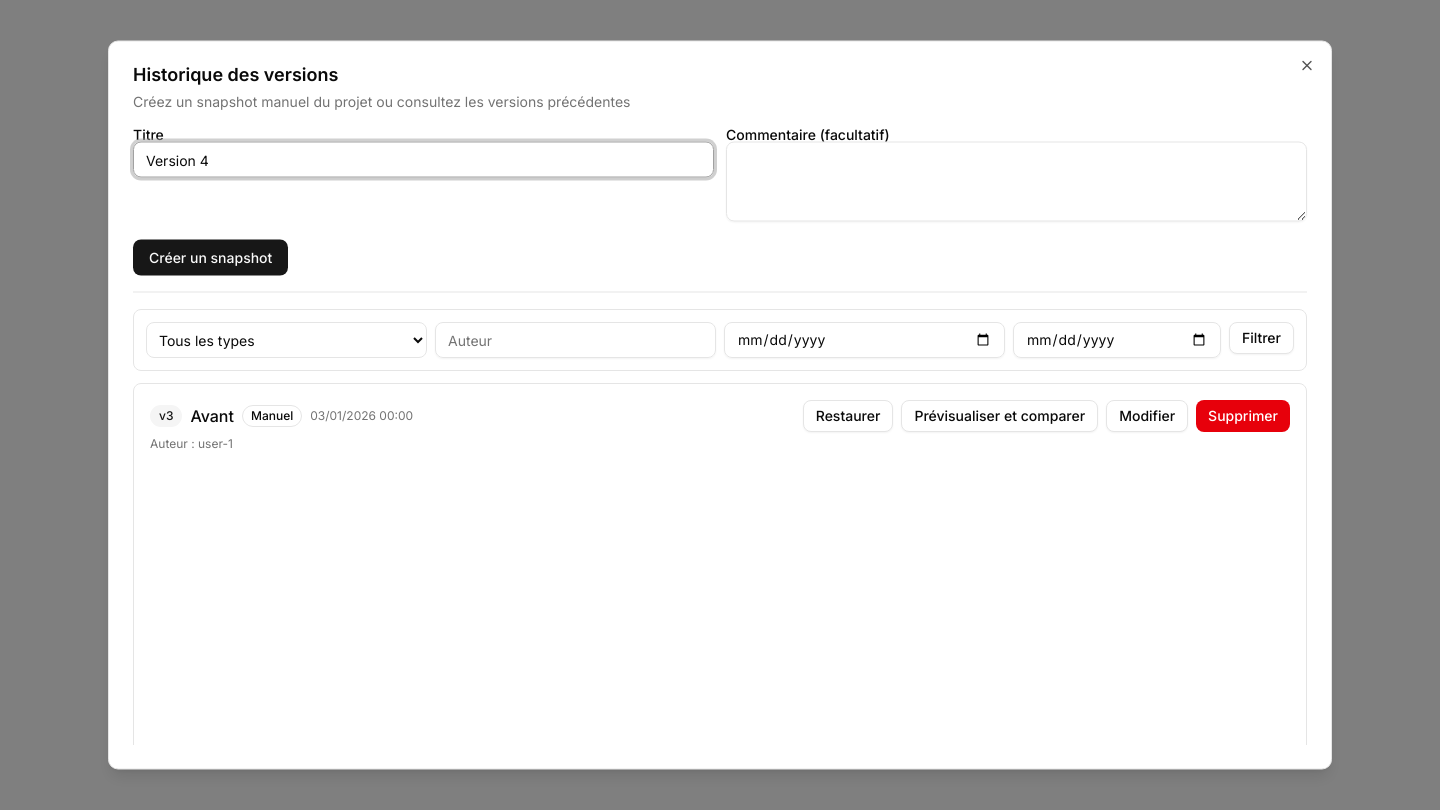
Scenario: SnapshotHistoryDialog › edits metadata then requires a destructive confirmation before showing a non-openable audit entry
Expected: the text "Avant" is shown, [190,404,234,428]
Click the button "Modifier".
click(1147, 416)  # box [1106,400,1188,432]
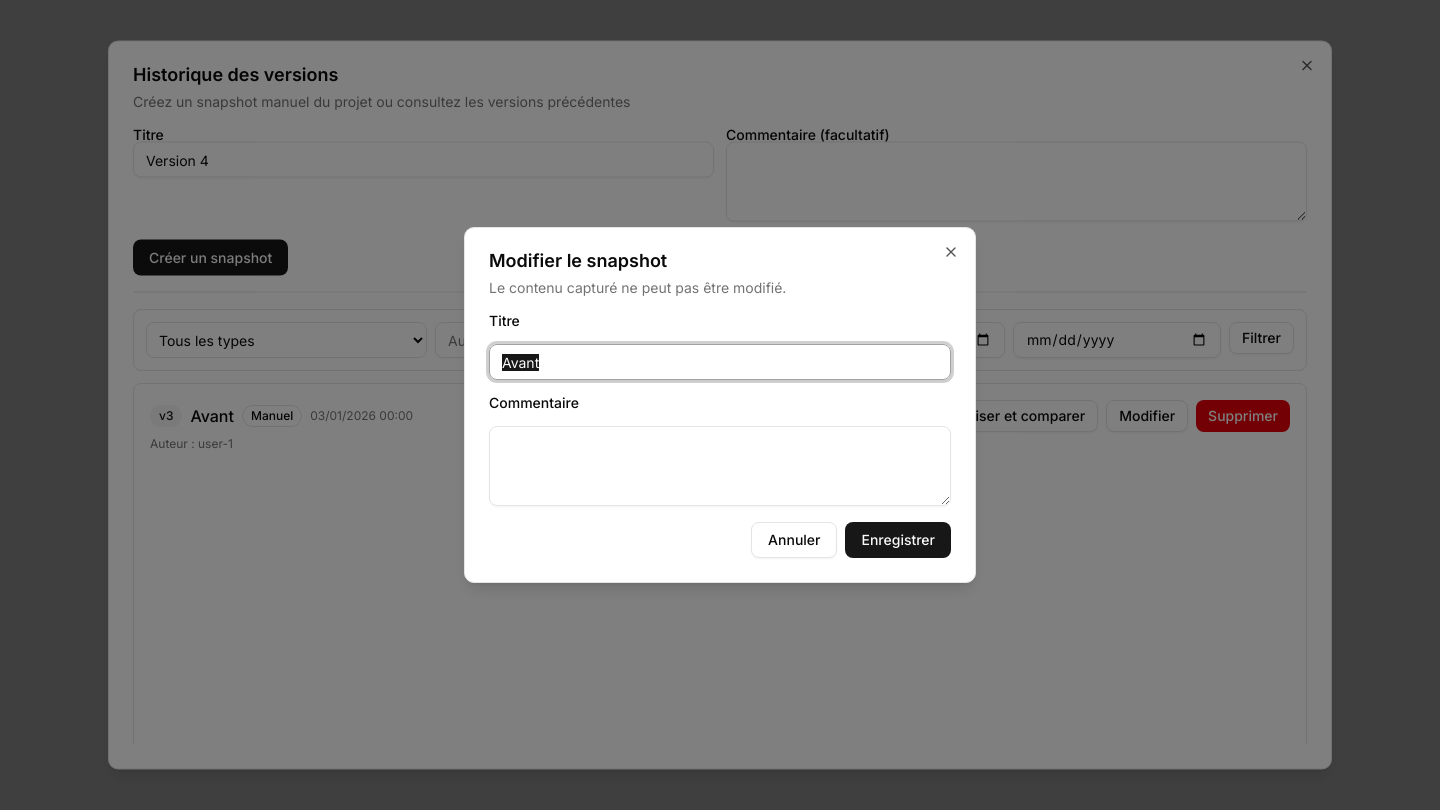
Replace the text in the field labelled "Titre" with "Après" at (720, 362), box [489,344,951,380]
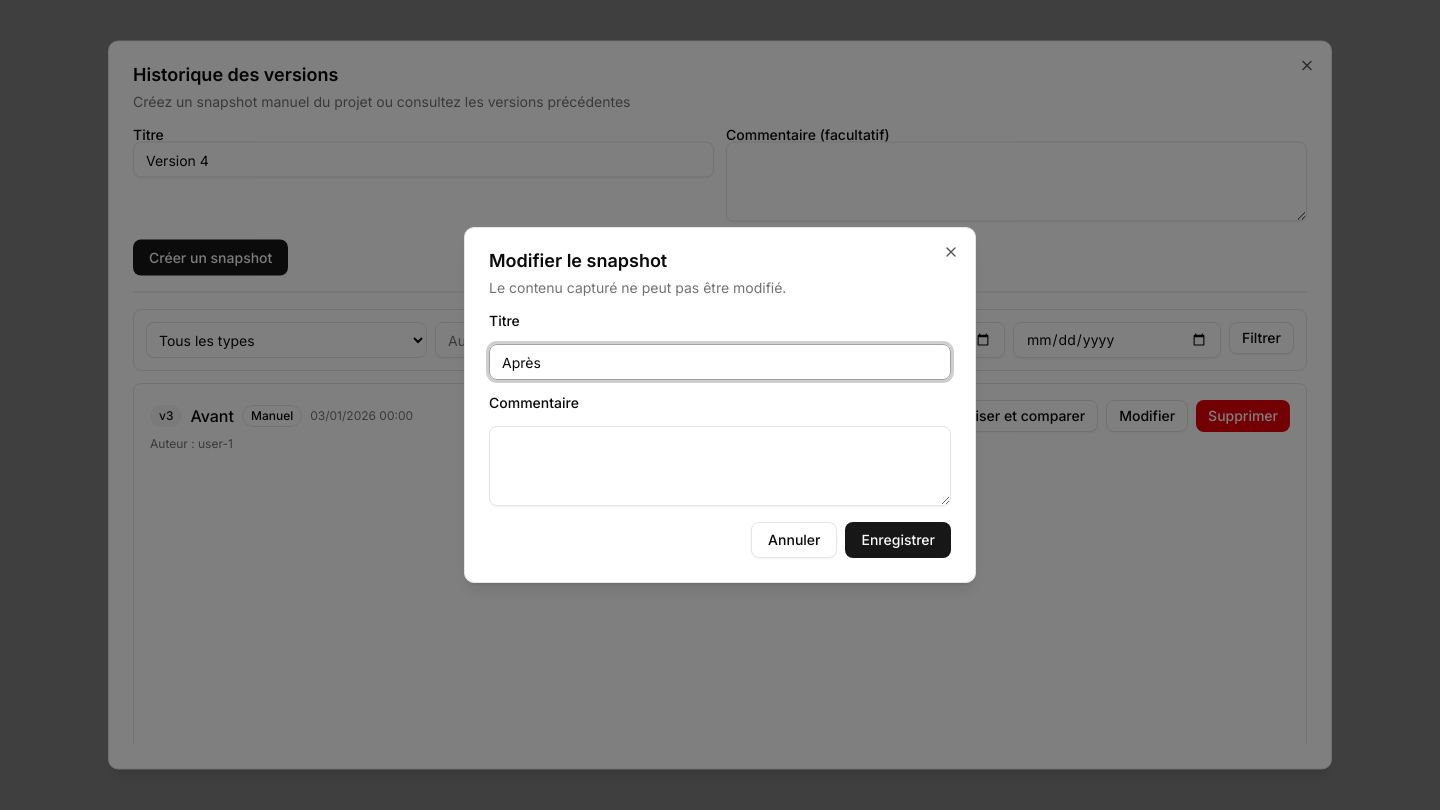
Type "Commentaire édité" into the text box labelled "Commentaire".
click(720, 466); type("Commentaire édité")  # box [489,426,951,506]
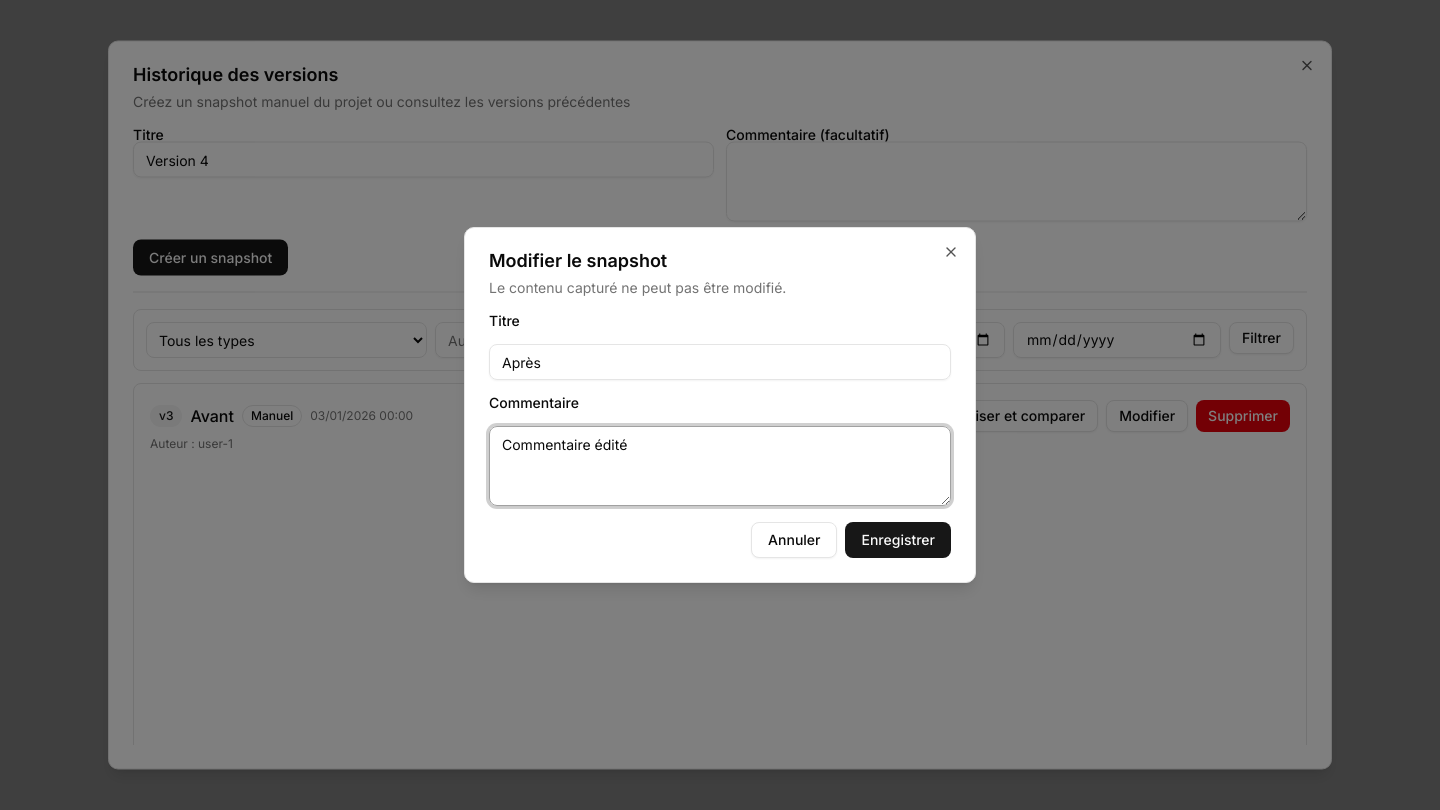
Click the button "Enregistrer".
click(898, 540)  # box [846,522,951,558]
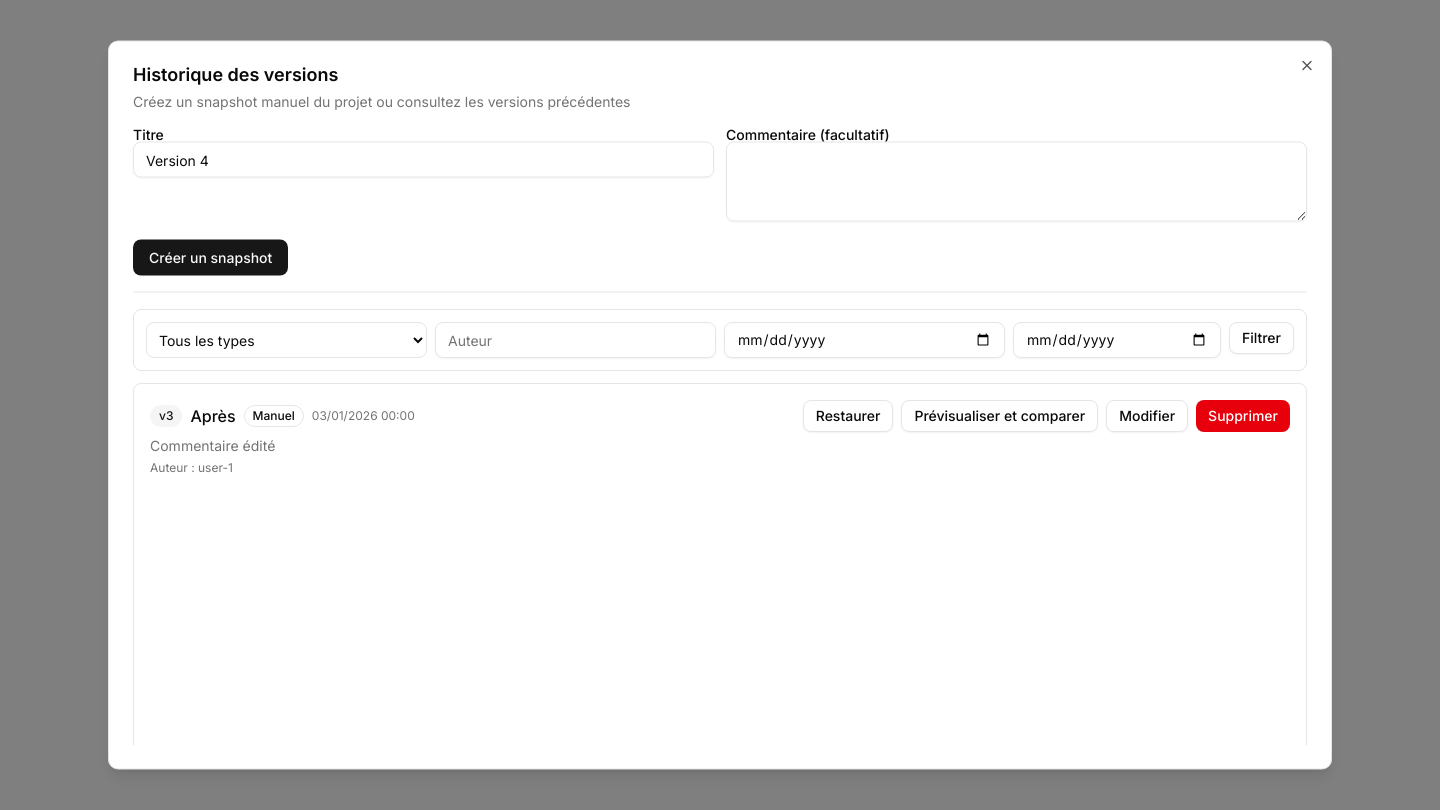
Click the button "Supprimer".
click(1243, 416)  # box [1196,400,1290,432]
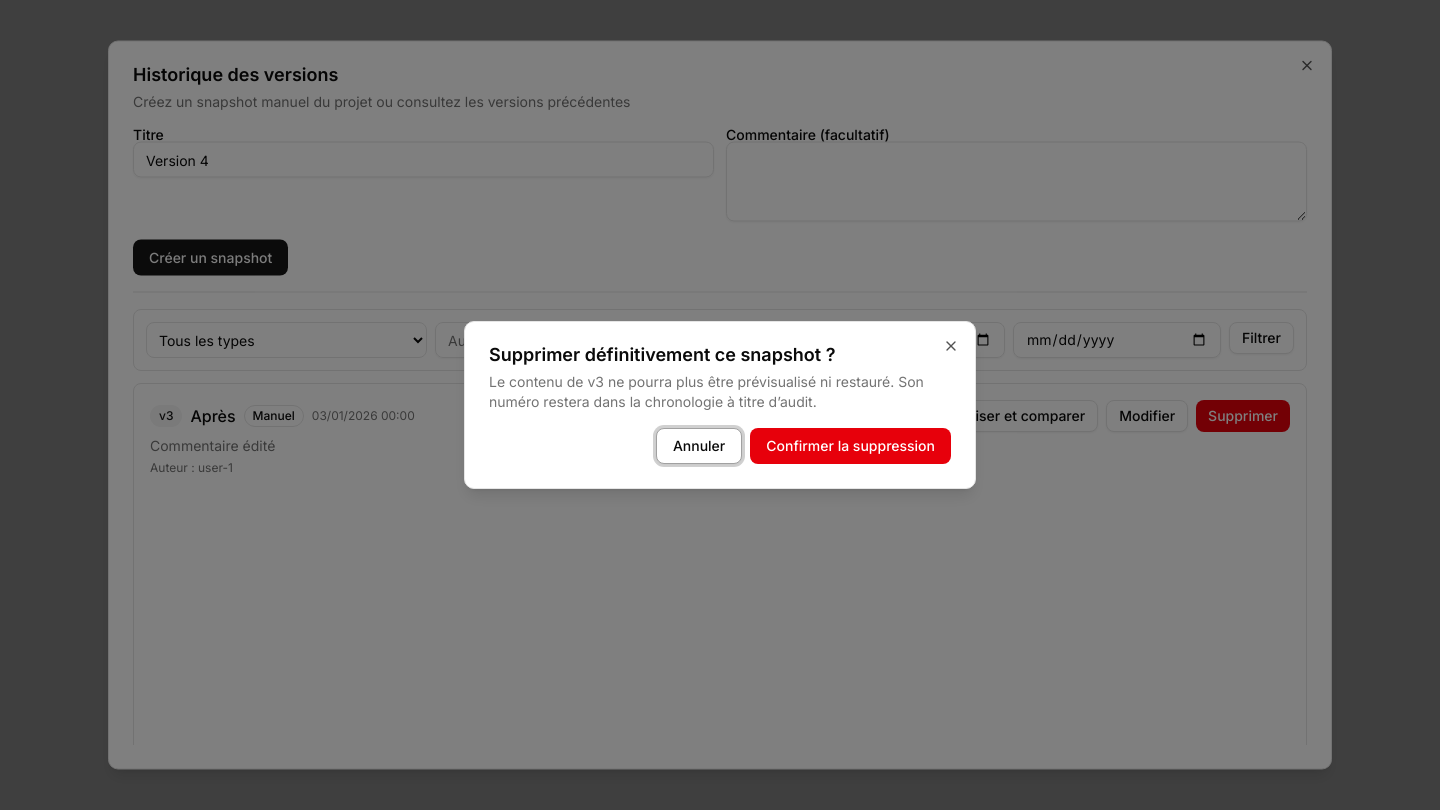
Expected: the text "ne pourra plus être prévisualisé ni restauré" is shown, [489,373,924,410]
Click the button "Confirmer la suppression".
click(851, 446)  # box [750,428,951,464]
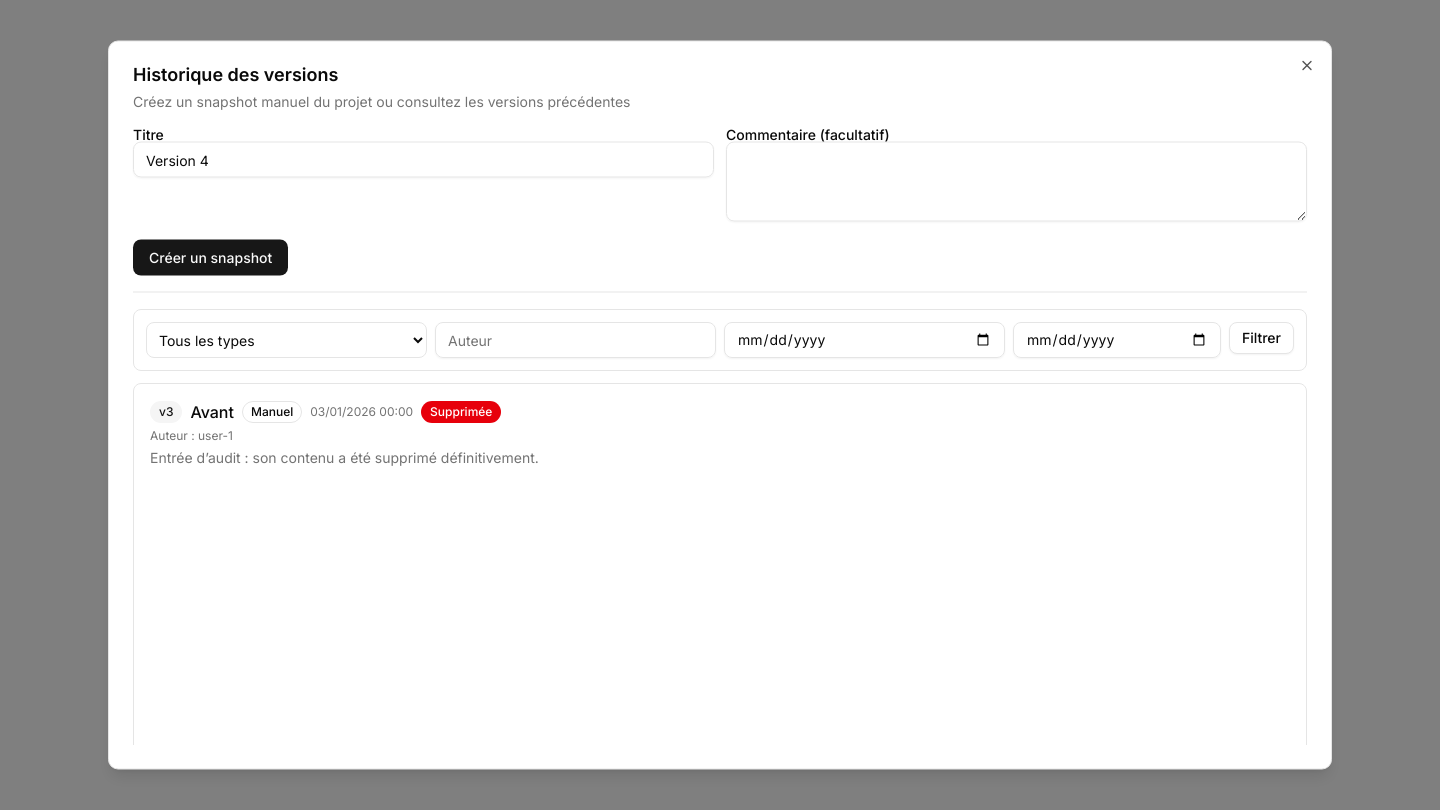
Expected: the text "Entrée d’audit : son contenu a été supprimé définitivement." is shown, [150,448,539,466]
Expected: the button "Restaurer" is gone
